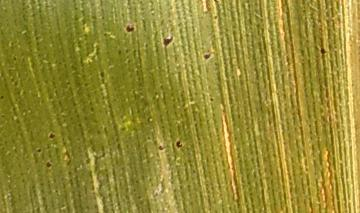tarspot: (162, 35, 174, 47), (125, 24, 135, 34), (202, 51, 212, 61), (319, 46, 328, 56), (174, 140, 183, 149), (158, 144, 167, 153), (48, 132, 57, 140), (98, 69, 106, 78), (45, 160, 52, 170), (117, 48, 123, 57), (209, 96, 215, 104), (36, 147, 42, 154), (213, 14, 218, 22), (124, 48, 129, 54), (1, 94, 5, 100)
